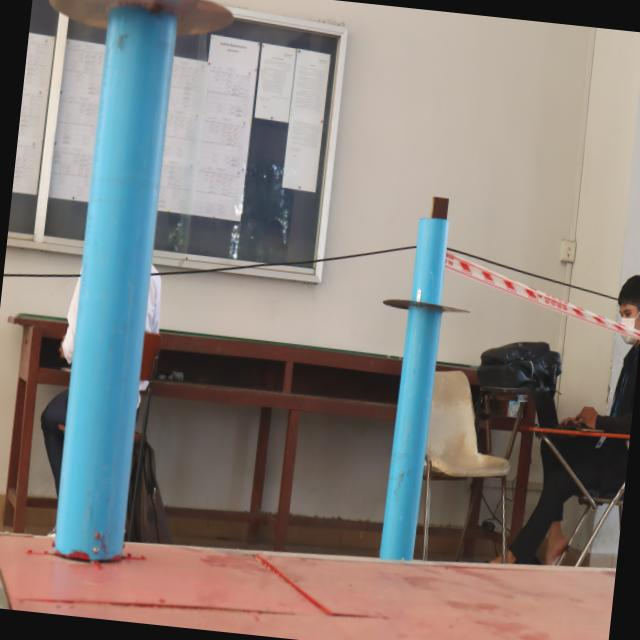pole: (28, 0, 241, 184), (365, 194, 488, 406)
